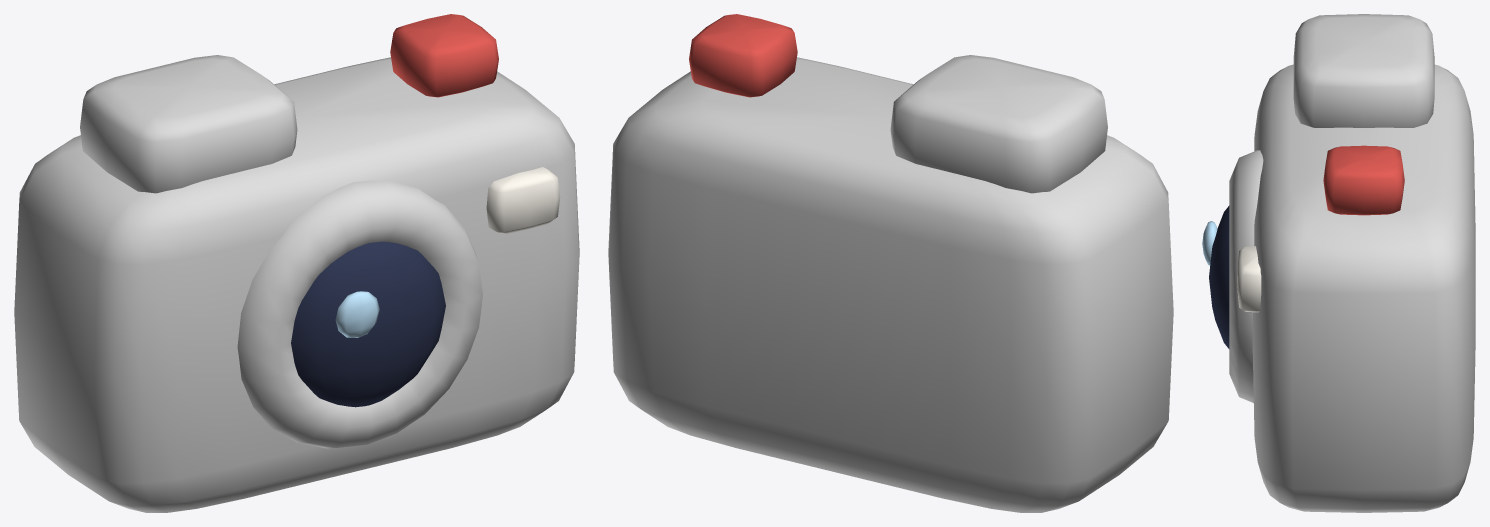
Rendered from camera.glb.
3 renders of one model, left to right at view 1: azimuth 30°, elevation 25°; view 2: azimuth 150°, elevation 25°; view 3: azimuth 270°, elevation 25°, orthographic. The views are drawn at different scales.
Visible parts, largest first — view 1: camera; view 2: camera; view 3: camera.
Part boxes in pixels (x1=…): camera: x1=14, y1=14, x2=579, y2=512; camera: x1=608, y1=14, x2=1173, y2=512; camera: x1=1202, y1=14, x2=1475, y2=512.
Size of the model in its own units: 1 by 0.75 by 0.5372.
